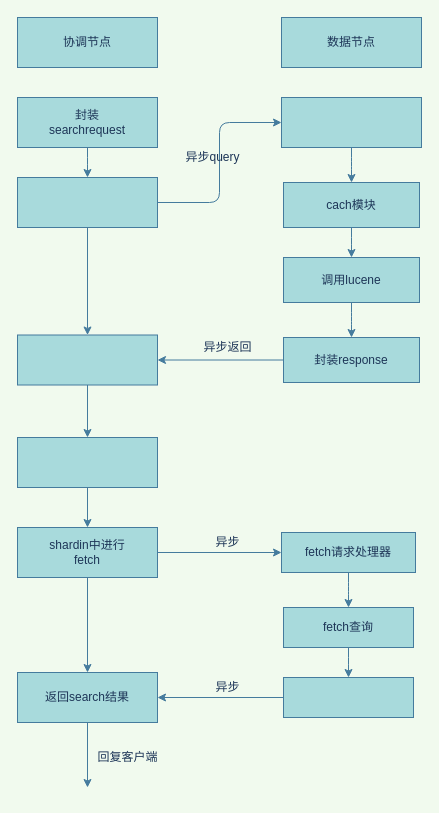
The diagram is 439 pixels wide and 813 high, and some of its shapes have lost their labels. Here are the shapes that lost their labels. From the top down, the centre of each, then its label:
At [351,122]: "请求处理器".
At [87,202]: "根据索引 构建sharding列表请求".
At [87,359]: "query response合并".
At [87,462]: "等待所有的 response返回".
At [348,697]: "封装fetch结果".
